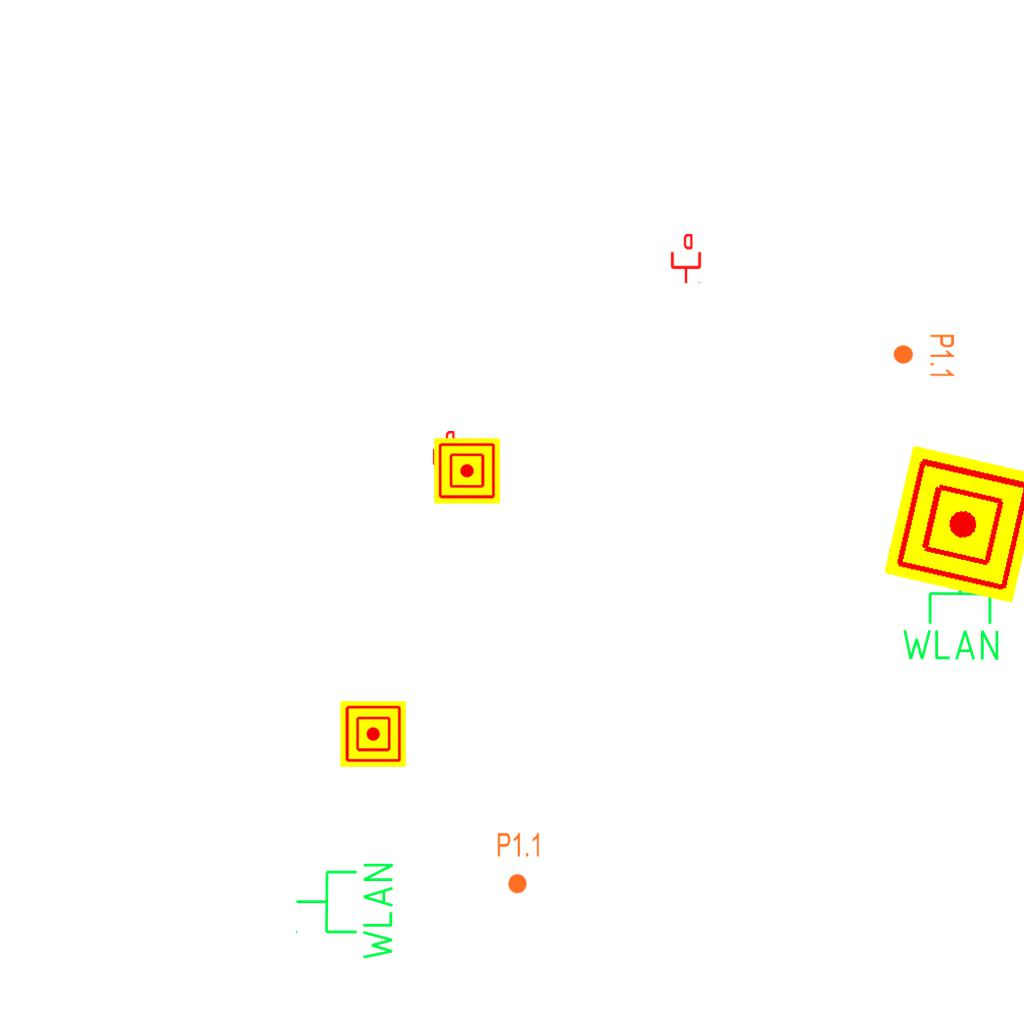Datenanschluss_einfach: (431, 431, 465, 481), (669, 234, 703, 284)
Downlight_LED_Einbauleuchten_Flur: (496, 831, 542, 895), (892, 333, 956, 379)
NAM-Nichtautomatischer_Melder: (883, 444, 1024, 604), (340, 701, 406, 767), (434, 438, 500, 504)
WLAN: (293, 859, 397, 964), (898, 560, 1003, 664)
